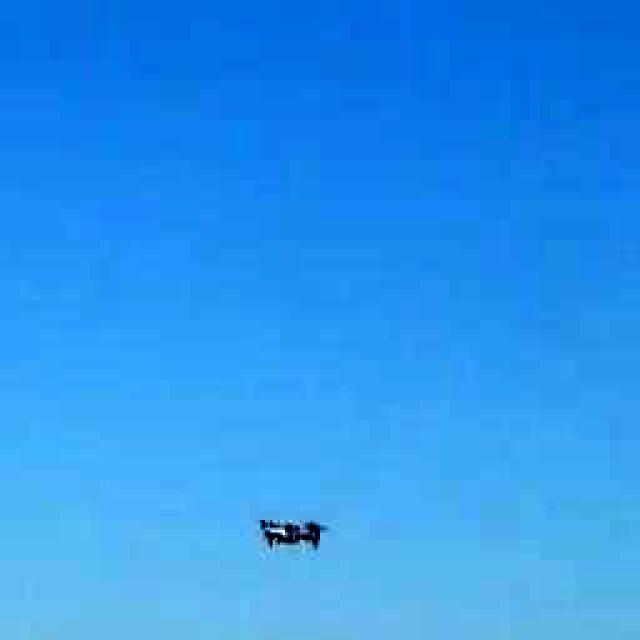bird: (226, 486, 349, 574)
